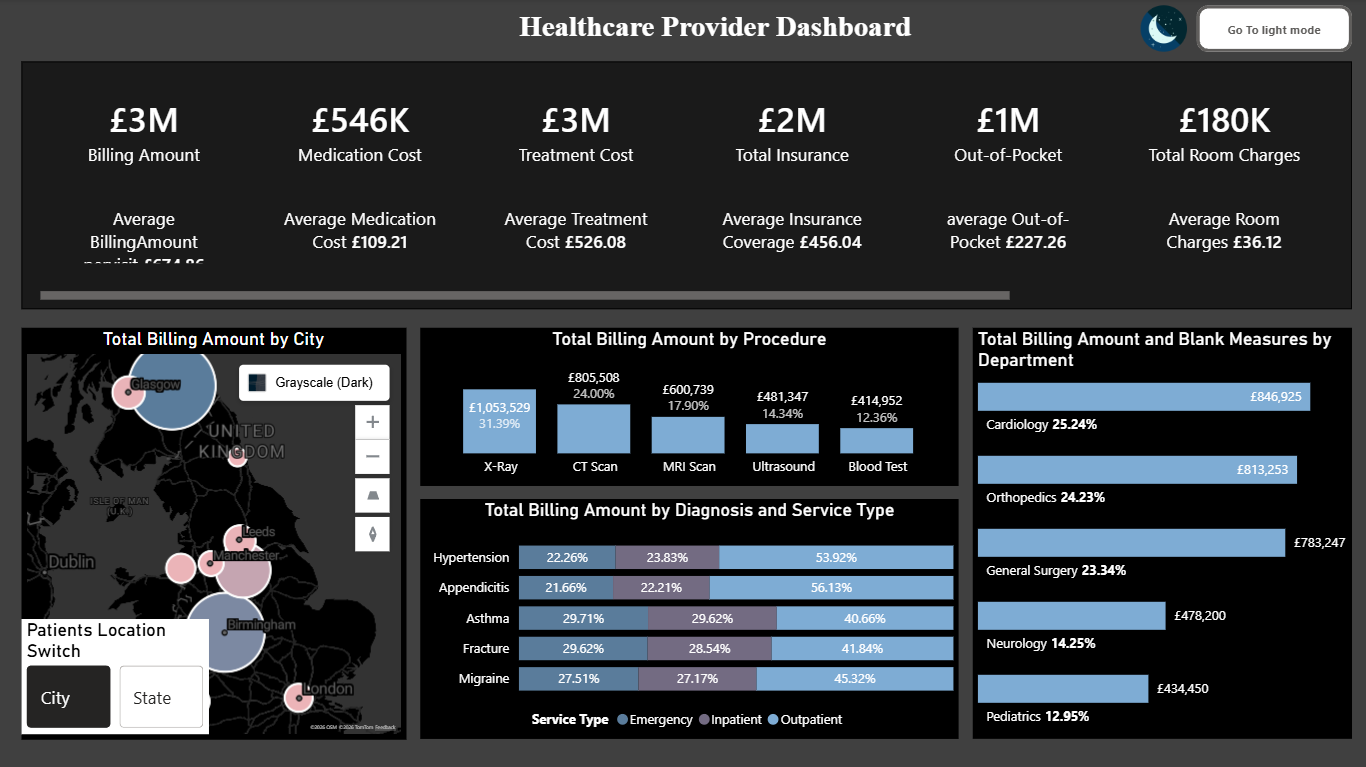

What the dashboard file says about the page in this screenshot:
{"tool":"powerbi","page":{"name":"HP PG-2","canvas":[1280,720],"ordinal":1},"visuals":[{"type":"cardVisual","fields":{"Data":["DAX Calculations.Total Billing Amount","DAX Calculations.Total Medication Costs","DAX Calculations.Total Treatment Cost","DAX Calculations.Total Insurance Coverage","DAX Calculations.Out-of-Pocket","DAX Calculations.Total Room Charges","DAX Calculations.Average Room Charges","DAX Calculations.Average Treatment Cost","DAX Calculations.Average Treatment Cost"]},"box":[25.9,57.6,1237.6,230.6],"z":0},{"type":"azureMap","fields":{"Size":["DAX Calculations.Total Billing Amount"],"Category":["cities.City"]},"box":[25.9,305.9,357.6,382.4],"z":1000},{"type":"advancedSlicerVisual","fields":{"Values":["Patients Location Switch.Patients Location Switch"]},"box":[25.9,576.5,174.1,107.1],"z":2000},{"type":"columnChart","fields":{"Category":["procedures.Procedure"],"Y":["DAX Calculations.Total Billing Amount"]},"box":[396.5,305.9,501.2,147.1],"z":3000},{"type":"hundredPercentStackedBarChart","fields":{"Y":["DAX Calculations.Total Billing Amount"],"Category":["diagnoses.Diagnosis"],"Series":["visits.Service Type"]},"box":[396.5,464.7,501.2,223.5],"z":4000},{"type":"clusteredBarChart","fields":{"Category":["departments.Department"],"Y":["DAX Calculations.Total Billing Amount","DAX Calculations.Blank Measures"]},"box":[910.6,305.9,352.9,382.4],"z":5000},{"type":"textbox","box":[483.5,5.9,437.6,40],"z":6000},{"type":"actionButton","box":[1118.8,5.9,144.7,43.5],"z":7000},{"type":"image","box":[1056.5,5.9,62.4,43.5],"z":8000}]}

Visuals, with their boxes in screenshot pixels (x1, y1, x2, y2), scaled from the page's 1280x720 canvas onto the 1366x767 screenshot:
cardVisual - DAX Calculations.Total Billing Amount x DAX Calculations.Total Medication Costs: 28, 61, 1348, 307
azureMap - DAX Calculations.Total Billing Amount x cities.City: 28, 326, 409, 733
advancedSlicerVisual - Patients Location Switch.Patients Location Switch: 28, 614, 213, 728
columnChart - procedures.Procedure x DAX Calculations.Total Billing Amount: 423, 326, 958, 483
hundredPercentStackedBarChart - DAX Calculations.Total Billing Amount x diagnoses.Diagnosis: 423, 495, 958, 733
clusteredBarChart - departments.Department x DAX Calculations.Total Billing Amount: 972, 326, 1348, 733
textbox: 516, 6, 983, 49
actionButton: 1194, 6, 1348, 53
image: 1127, 6, 1194, 53
